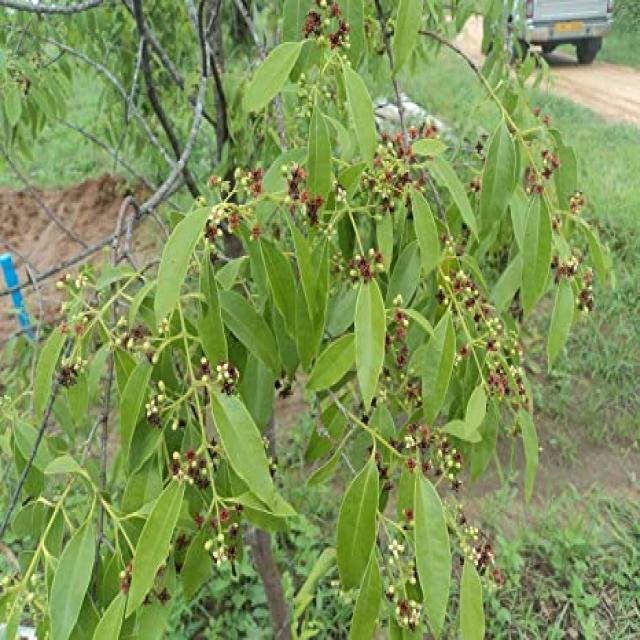Medicinal-Sandalwood: (5, 27, 623, 640)
